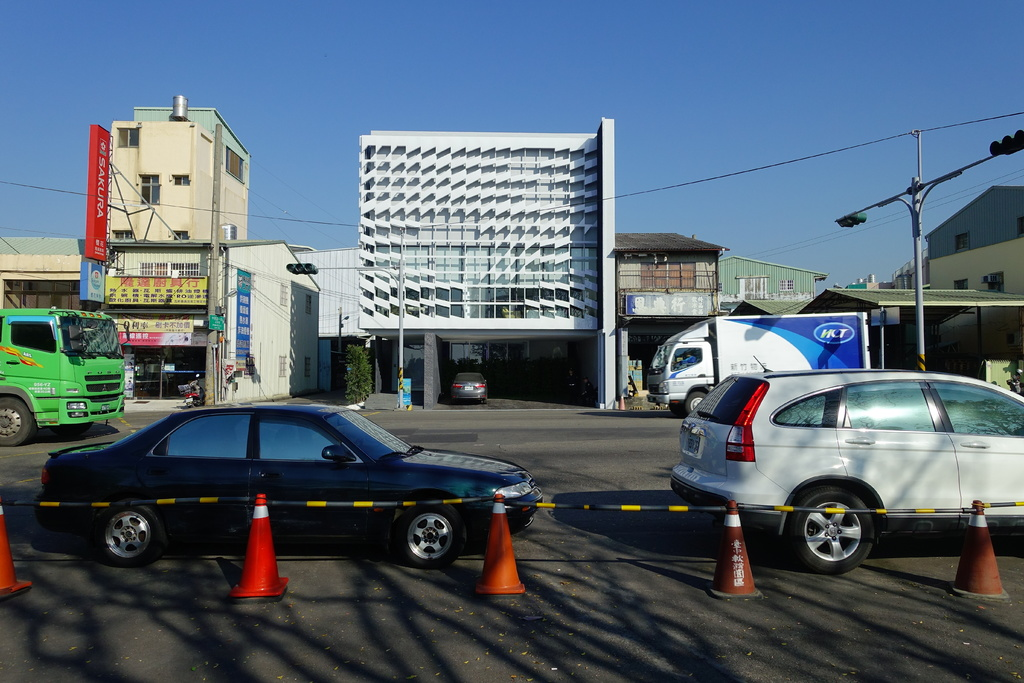Car: (33, 399, 544, 567), (670, 355, 1023, 574), (450, 370, 490, 401)
